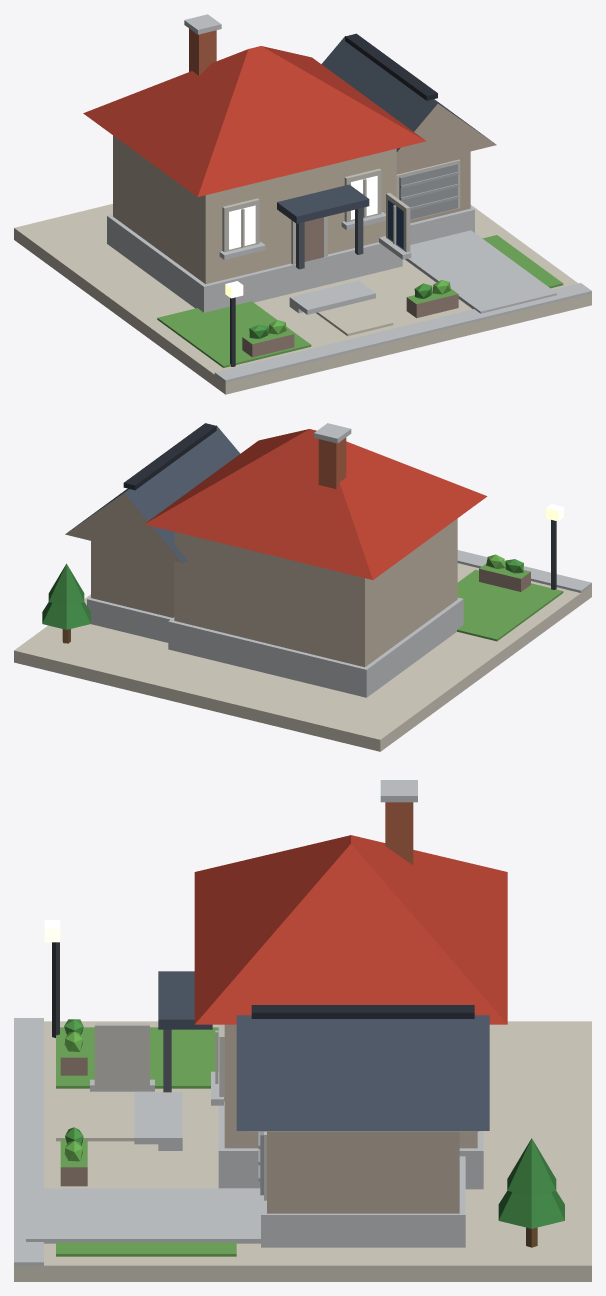
3 views of the same model, one above another, from view 1: azimuth 30°, elevation 25°; view 2: azimuth 150°, elevation 25°; view 3: azimuth 270°, elevation 25° (orthographic). The views are drawn at different scales.
Visible parts, largest first — view 1: b02_v2; view 2: b02_v2; view 3: b02_v2.
Part boxes in pixels (box(x1,y1,x2,y2)): b02_v2: box(14, 14, 591, 394); b02_v2: box(14, 423, 591, 751); b02_v2: box(14, 780, 591, 1281).
Size of the model in its own units: 0.96 by 0.602 by 0.96.
